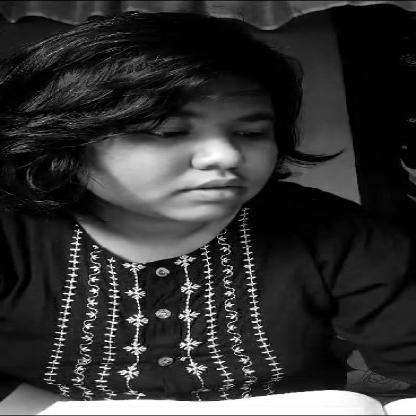Distracted: (65, 65, 286, 224)
